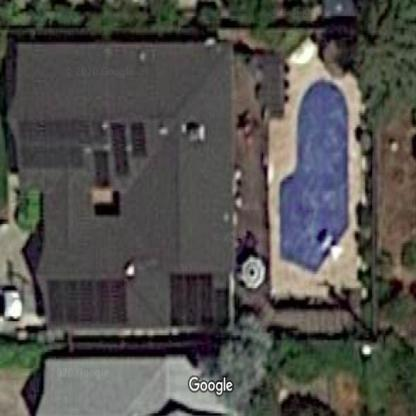solar_panel: (18, 111, 162, 189), (49, 273, 135, 329), (165, 267, 232, 331)
swimming_pool: (261, 64, 364, 285)
